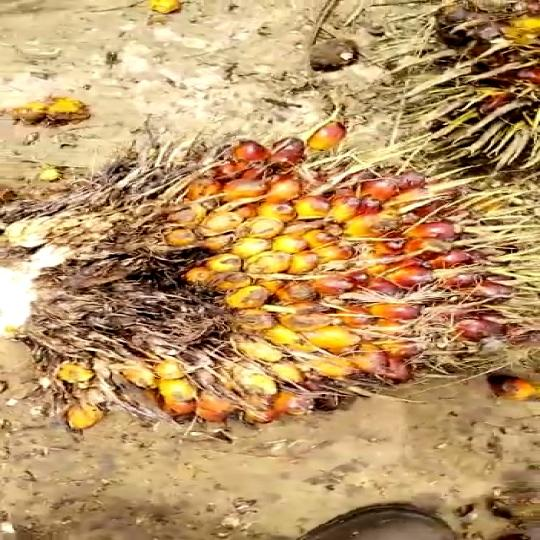masak: (0, 142, 540, 446)
